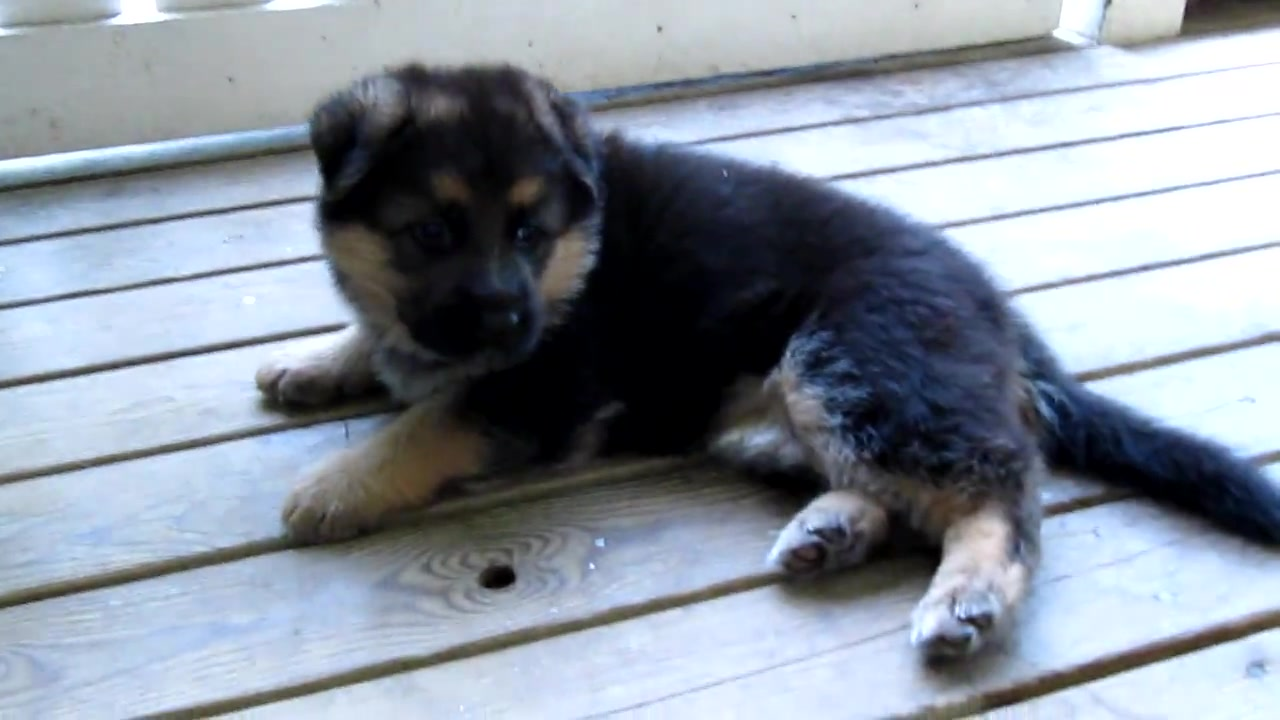dog: (258, 63, 1280, 671)
